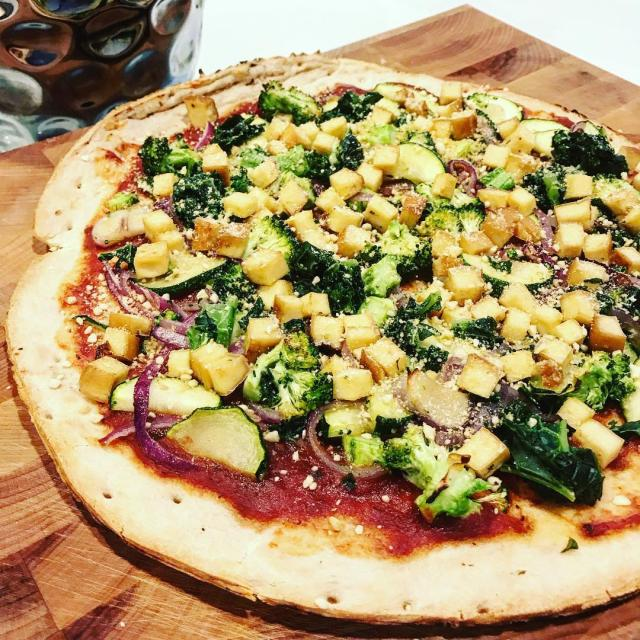pizza: (6, 55, 640, 626)
